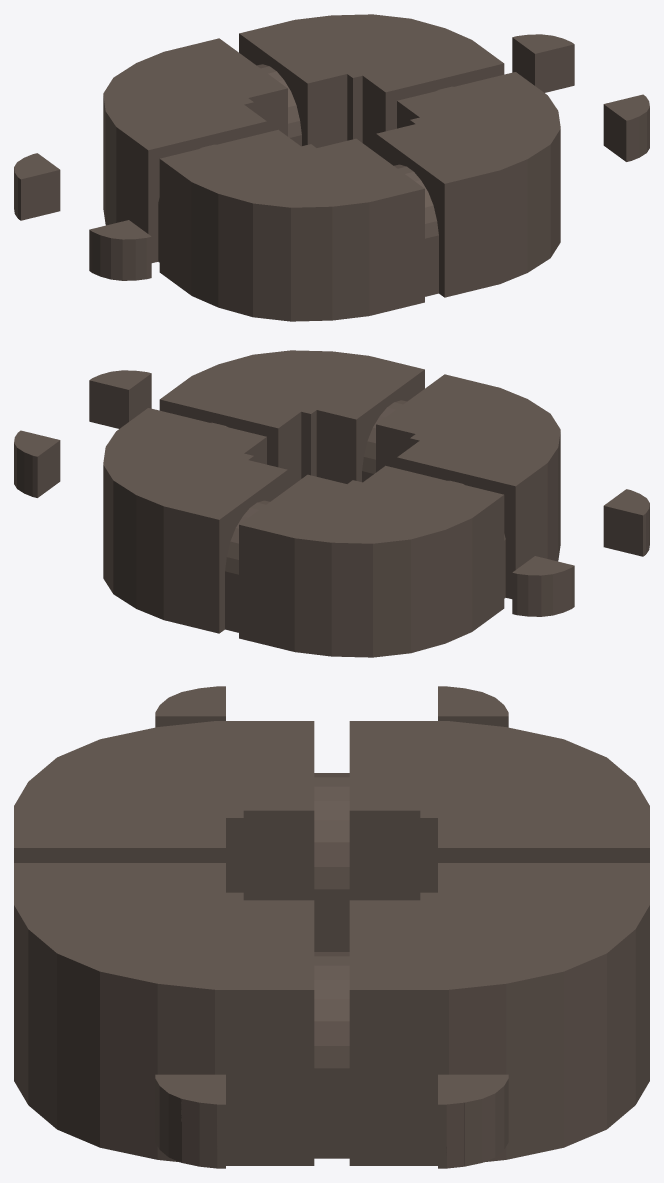
The model's file is maptest.fbx.
3 renders of one model, top to bottom at view 1: azimuth 30°, elevation 25°; view 2: azimuth 150°, elevation 25°; view 3: azimuth 270°, elevation 25°, orthographic. The views are drawn at different scales.
Parts seen in each view (by area): view 1: entity0_brush445; view 2: entity0_brush445; view 3: entity0_brush445.
Boxes of the visible parts, x1,y1,x2,y2 form: entity0_brush445: [14, 14, 649, 321]; entity0_brush445: [14, 350, 649, 657]; entity0_brush445: [14, 686, 649, 1168].
Bounding box in the file's own units: 12800 × 2514 × 8229.
